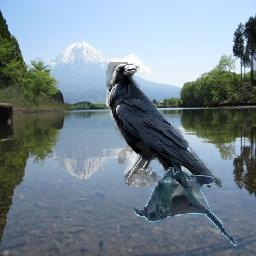Crow: (106, 62, 222, 188)
Cuckoo: (134, 166, 238, 246)
